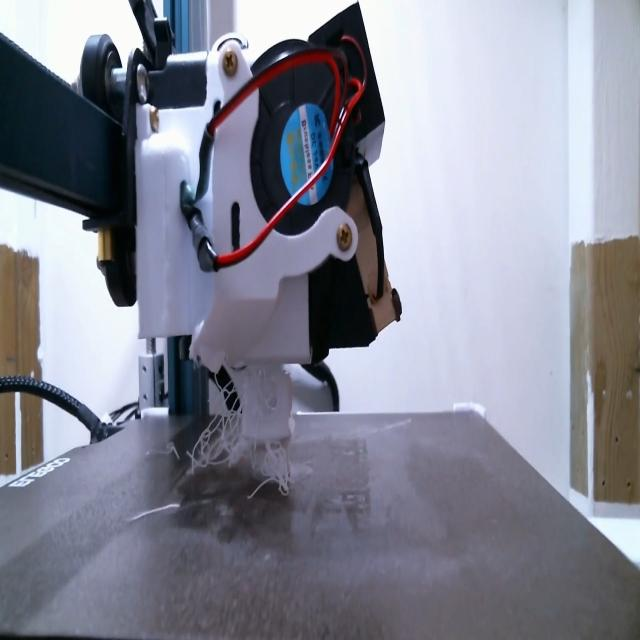spaghetti: (188, 381, 294, 505)
